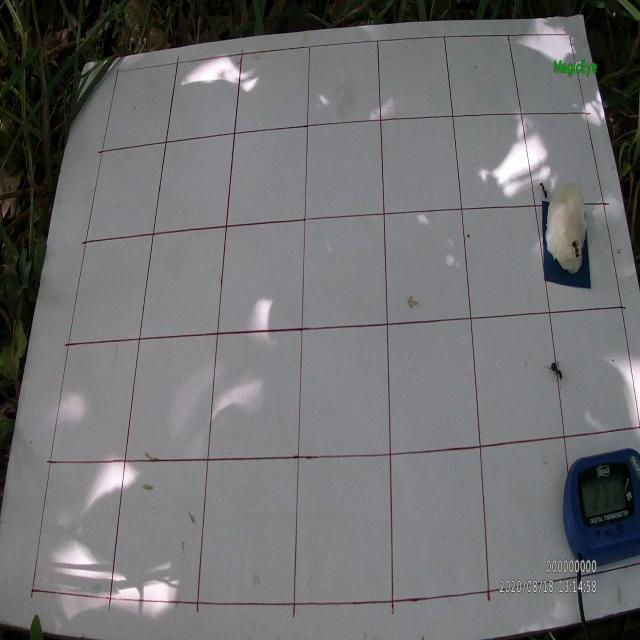Ant: (544, 358, 568, 389), (566, 236, 581, 261), (536, 182, 551, 202)
